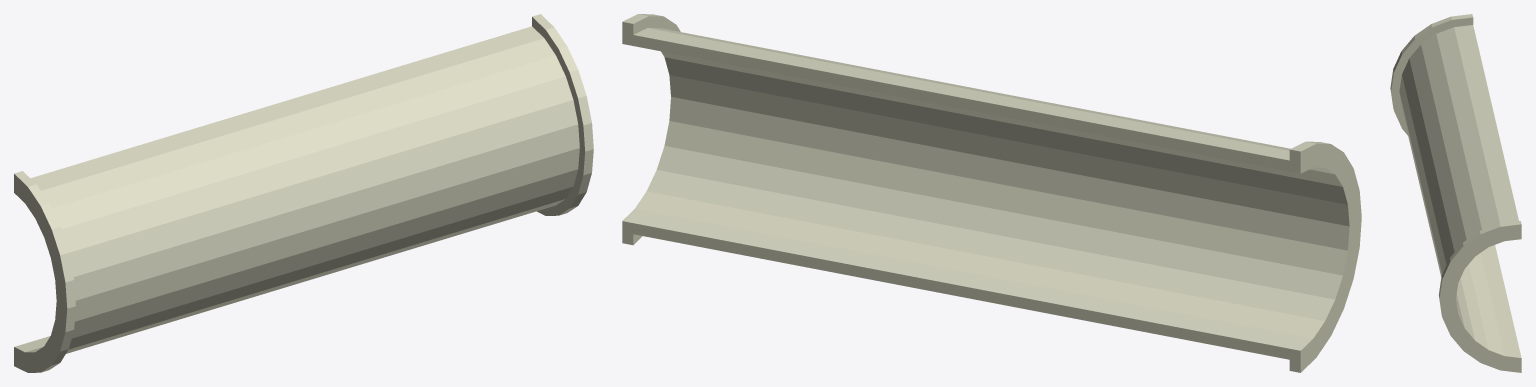
File: section_172.obj
The picture shows the model from 3 angles, left to right: view 1: azimuth 30°, elevation 25°; view 2: azimuth 150°, elevation 25°; view 3: azimuth 270°, elevation 25°; orthographic projection. The views are drawn at different scales.
Size of the model in its own units: 60.69 by 20 by 16.
